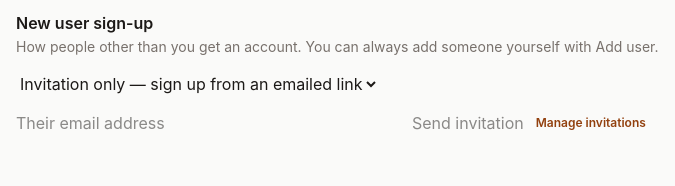
Scenario: SignUpCard › sends an email invitation in invitation-only mode
Type "sam@example.com" into the field named "Email address to invite". click: (208, 123)
box: top-left (16, 111), bottom-right (400, 135)
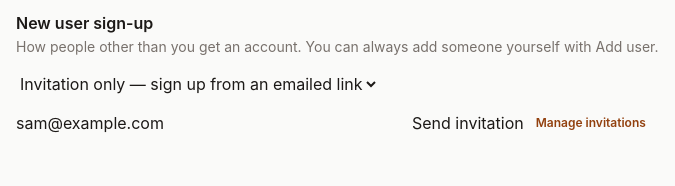
Click the button "Send invitation". click: (468, 123)
box: top-left (412, 111), bottom-right (524, 135)
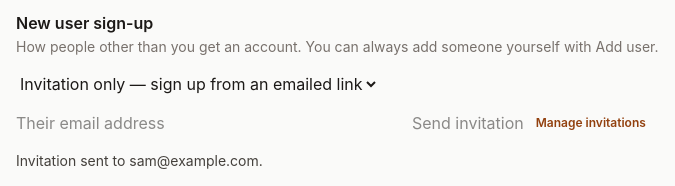
expect the message reads "Invitation sent to sam@example.com.": met, box top-left (16, 152), bottom-right (263, 169)
